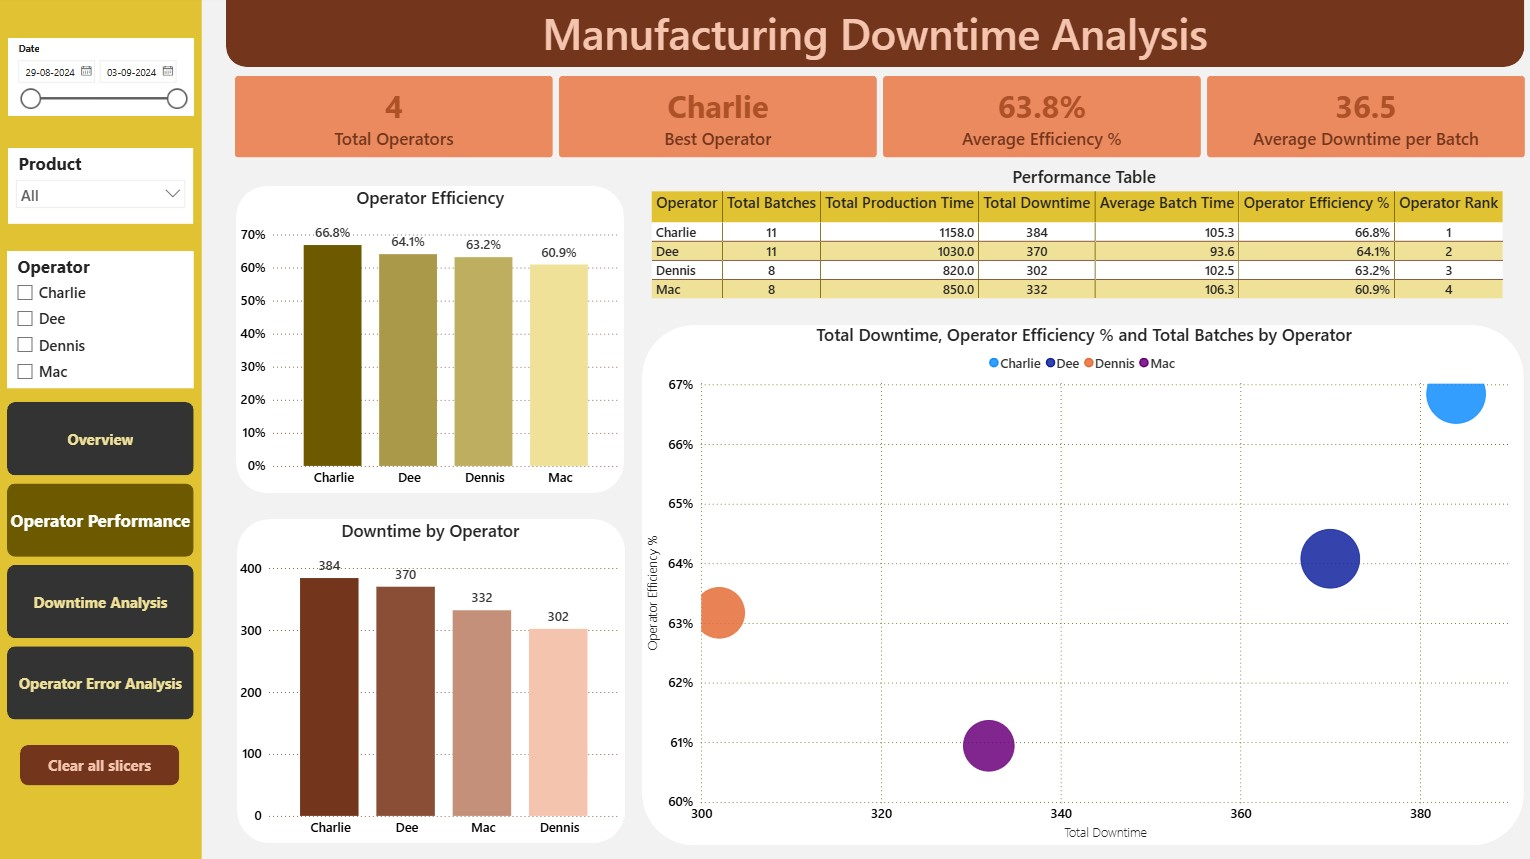

The dashboard page shown, as its layout file describes it:
{"tool":"powerbi","page":{"name":"Operator Performance","canvas":[1920,1080],"ordinal":1},"visuals":[{"type":"shape","box":[284.6,0,1626.7,83.8],"z":0,"group":"g1"},{"type":"cardVisual","fields":{"Data":[" Measures.Total Operators"," Measures.Best Operator"," Measures.Average Efficiency %"," Measures.Average Downtime per Batch"]},"box":[296,95,1617,102],"z":0},{"type":"shape","box":[297.5,233.8,486.1,384.6],"z":0,"group":"g2"},{"type":"shape","box":[806,406.2,1104.9,652.1],"z":0,"group":"g4"},{"type":"shape","box":[297.6,650.8,486.5,406.3],"z":0,"group":"g3"},{"type":"textbox","box":[284.6,0,1626.7,83.8],"z":1000,"group":"g1"},{"type":"tableEx","title":"Performance Table","fields":{"Values":["Line productivity.Operator"," Measures.Total Batches"," Measures.Total Production Time"," Measures.Total Downtime"," Measures.Average Batch Time"," Measures.Operator Efficiency %"," Measures.Operator Rank"]},"box":[796.7,206.2,1105.3,182.2],"z":1000},{"type":"shape","box":[0,0,254,1080.7],"z":2000},{"type":"clusteredColumnChart","title":"Operator Efficiency","fields":{"Category":["Line productivity.Operator"],"Y":[" Measures.Operator Efficiency %"]},"box":[297.2,233.3,486.8,385.7],"z":2000,"group":"g2"},{"type":"clusteredColumnChart","title":"Downtime by Operator","fields":{"Category":["Line productivity.Operator"],"Y":[" Measures.Total Downtime"]},"box":[296.6,650.4,486.8,407],"z":2000,"group":"g3"},{"type":"slicer","fields":{"Values":["Line productivity.Date"]},"box":[11.2,47.7,233,96.8],"z":3000},{"type":"scatterChart","fields":{"X":[" Measures.Total Downtime"],"Y":[" Measures.Operator Efficiency %"],"Size":[" Measures.Total Batches"],"Series":["Line productivity.Operator"]},"box":[807.3,404.3,1105.3,653.1],"z":3000,"group":"g4"},{"type":"slicer","fields":{"Values":["Line productivity.Product"]},"box":[11.2,185.3,231.6,95.4],"z":4000},{"type":"slicer","fields":{"Values":["Line productivity.Operator"]},"box":[10.6,313.9,234.1,171.6],"z":5000},{"type":"pageNavigator","box":[10.6,504.1,234.1,399],"z":6000},{"type":"group","id":"g1","title":"Group 1","box":[284.6,0,1626.7,83.8],"z":7000},{"type":"actionButton","box":[26.6,933.7,199.5,50.5],"z":8000},{"type":"group","id":"g2","title":"Group 2","box":[297.2,233.3,486.8,385.7],"z":9000},{"type":"group","id":"g3","title":"Group 3","box":[296.6,650.4,487.4,407],"z":10000},{"type":"group","id":"g4","title":"Group 4","box":[806,404.3,1106.6,654],"z":11000}]}

Visuals, with their boxes in screenshot pixels (x1, y1, x2, y2), scaled from the page's 1920x1080 canvas onto the 1530x859 screenshot:
shape: 227,0,1523,67
cardVisual -  Measures.Total Operators x  Measures.Best Operator: 236,76,1524,157
shape: 237,186,624,492
shape: 642,323,1523,842
shape: 237,518,625,841
textbox: 227,0,1523,67
"Performance Table" tableEx: 635,164,1516,309
shape: 0,0,202,858
"Operator Efficiency" clusteredColumnChart: 237,186,625,492
"Downtime by Operator" clusteredColumnChart: 236,517,624,841
slicer - Line productivity.Date: 9,38,195,115
scatterChart -  Measures.Total Downtime x  Measures.Operator Efficiency %: 643,322,1524,841
slicer - Line productivity.Product: 9,147,193,223
slicer - Line productivity.Operator: 8,250,195,386
pageNavigator: 8,401,195,718
"Group 1" group: 227,0,1523,67
actionButton: 21,743,180,783
"Group 2" group: 237,186,625,492
"Group 3" group: 236,517,625,841
"Group 4" group: 642,322,1524,842
